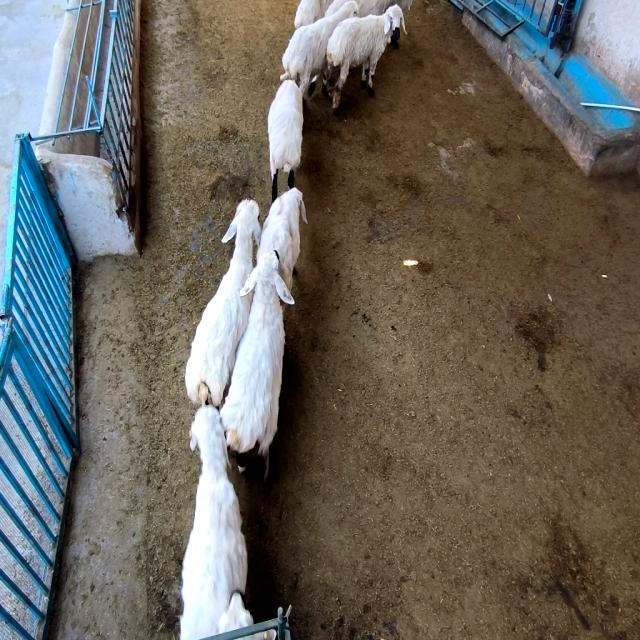sheep: (220, 252, 292, 479), (180, 405, 248, 638), (185, 198, 261, 406), (326, 7, 405, 114), (281, 0, 359, 96), (256, 187, 308, 288), (268, 80, 302, 175)
